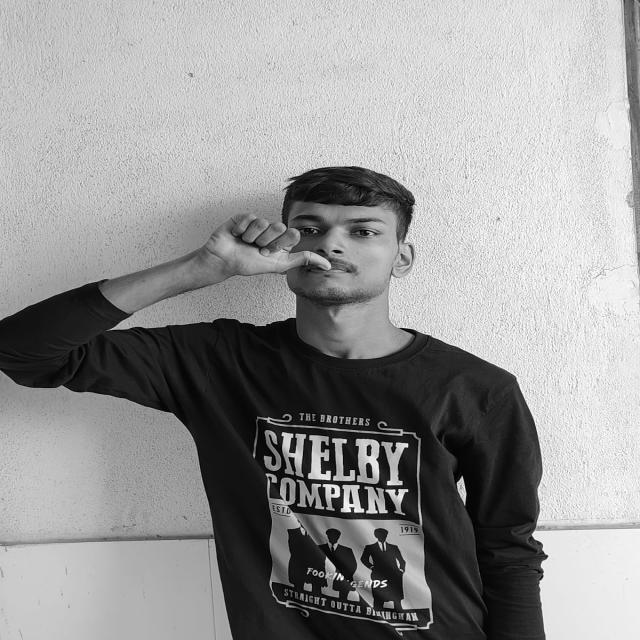Drink: (196, 210, 335, 284)
